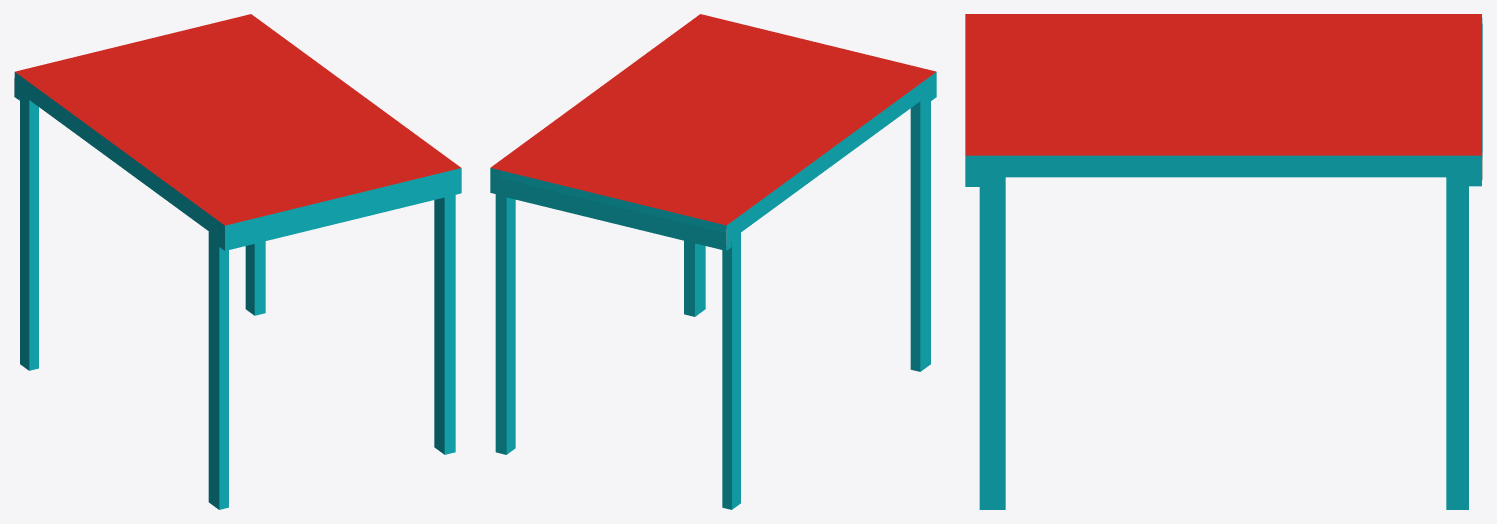
Rendered from studentdesk.glb.
The picture shows the model from 3 angles, left to right: view 1: azimuth 30°, elevation 25°; view 2: azimuth 150°, elevation 25°; view 3: azimuth 270°, elevation 25°; orthographic projection. The views are drawn at different scales.
Visible parts, largest first — view 1: Cube; view 2: Cube; view 3: Cube.
Boxes of the visible parts, box(x1,y1,x2,y2) form: Cube: box(14, 14, 461, 509); Cube: box(490, 14, 936, 509); Cube: box(965, 14, 1482, 509).
Size of the model in its own units: 0.6851 by 0.7986 by 1.06.
